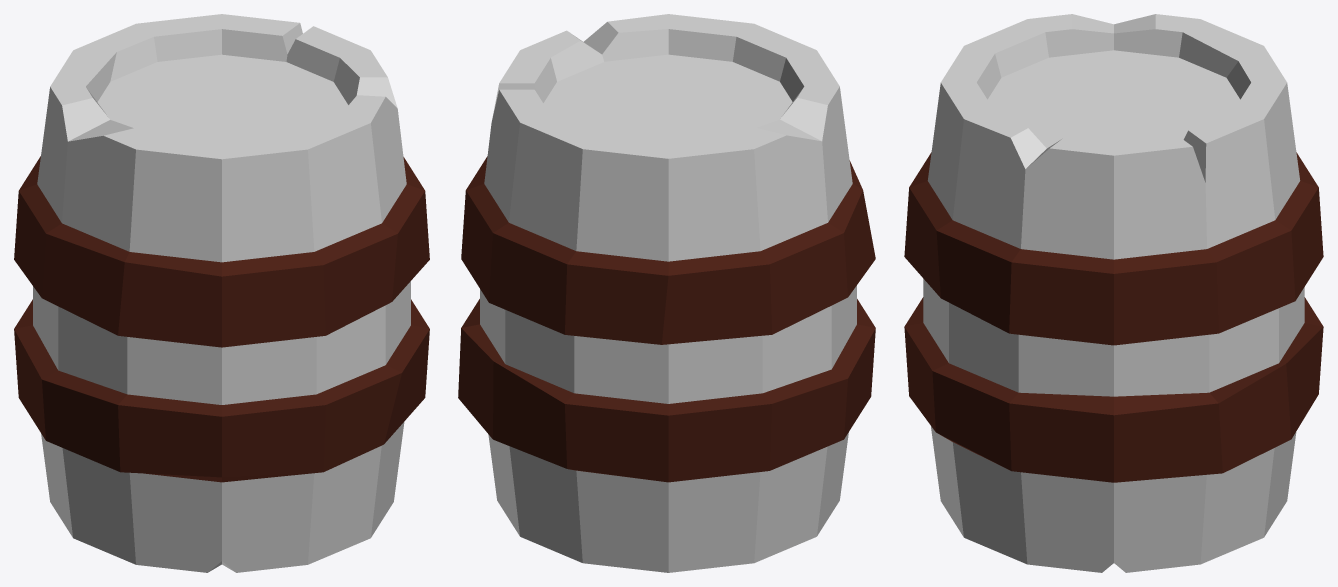
The model's file is SM_SM_Barrel_01.fbx.
3 renders of one model, left to right at view 1: azimuth 30°, elevation 25°; view 2: azimuth 150°, elevation 25°; view 3: azimuth 270°, elevation 25°, orthographic.
Parts seen in each view (by area): view 1: SM_Barrel_01; view 2: SM_Barrel_01; view 3: SM_Barrel_01.
Boxes of the visible parts, x1,y1,x2,y2 form: SM_Barrel_01: [14, 14, 429, 572]; SM_Barrel_01: [458, 14, 875, 572]; SM_Barrel_01: [904, 14, 1323, 572].
Size of the model in its own units: 109 by 120 by 109.
